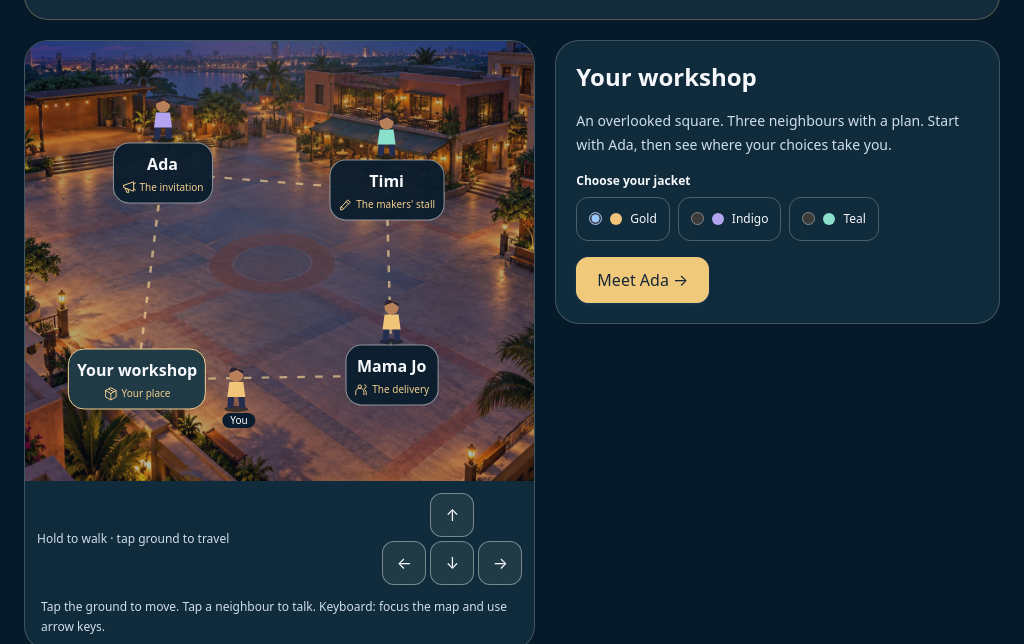
Test case: playable neighbourhood › supports keyboard movement and recovers from unavailable device storage
The width and height of the screenshot is (1024, 644).
(page scrolled)
Press ArrowRight in the element named "Neighbourhood movement", box top-left (25, 41), bottom-right (534, 481)
(page scrolled)
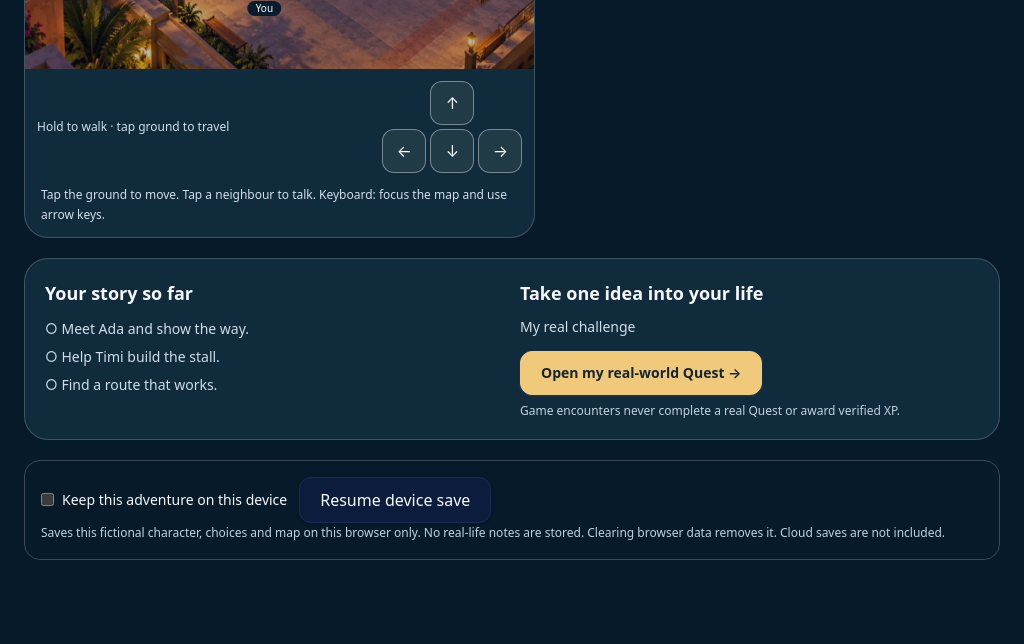
Click the checkbox labelled "Keep this adventure on this device" at (48, 500), box top-left (41, 493), bottom-right (54, 506)
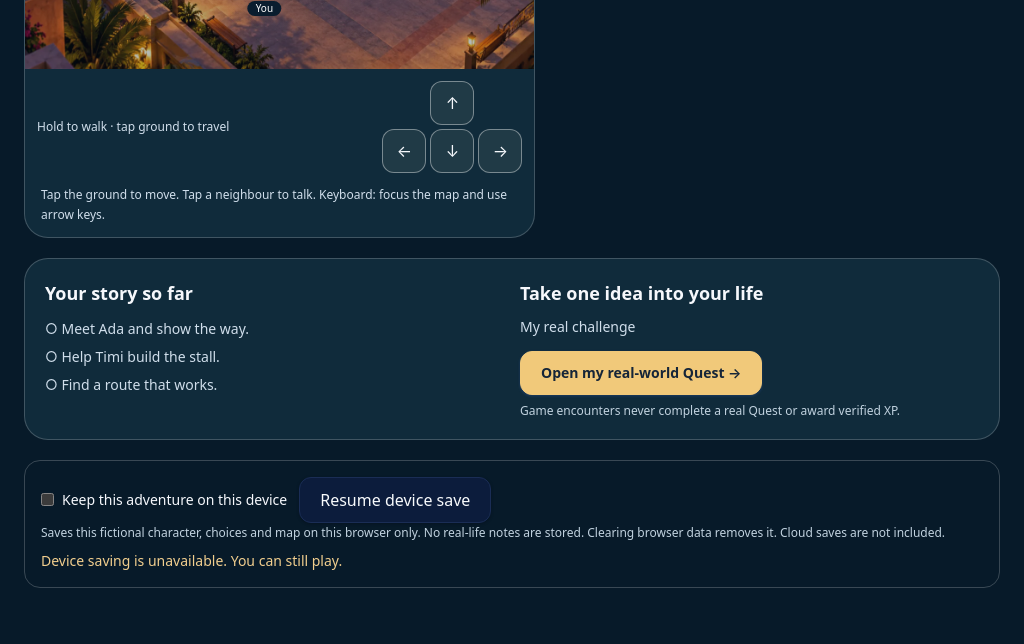
Now the text "Device saving is unavailable. You can still play." is shown, box top-left (41, 551), bottom-right (342, 570)
